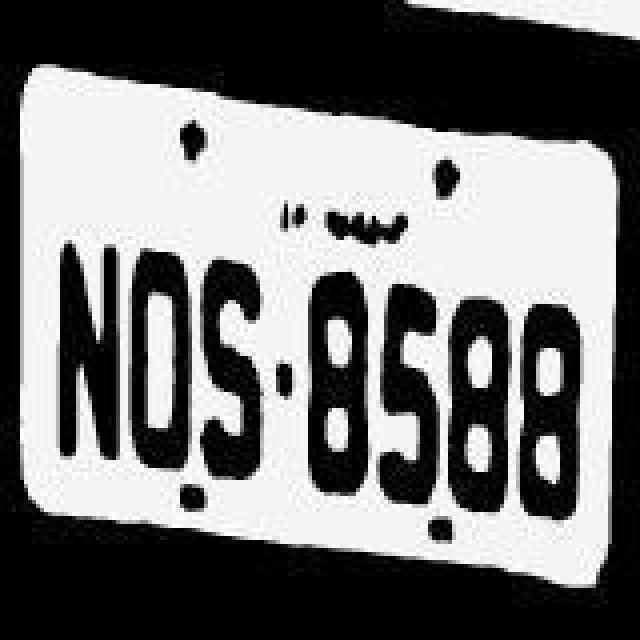5: (376, 264, 448, 504)
8: (516, 288, 596, 528), (302, 262, 378, 498), (442, 284, 518, 516)
N: (48, 234, 128, 486)
O: (128, 244, 200, 484)
S: (202, 248, 278, 480)
